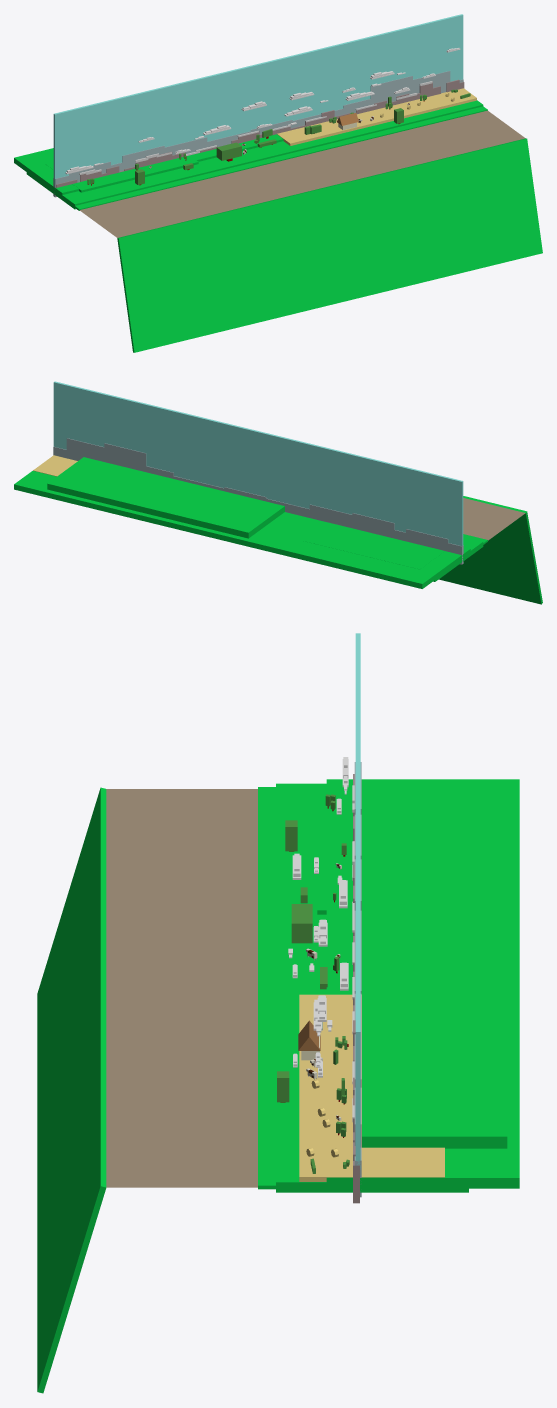
File: countryBackground.fbx
3 renders of one model, top to bottom at view 1: azimuth 30°, elevation 25°; view 2: azimuth 150°, elevation 25°; view 3: azimuth 270°, elevation 25°, orthographic. The views are drawn at different scales.
Parts seen in each view (by area): view 1: polySurface524; view 2: polySurface524; view 3: polySurface524.
Boxes of the visible parts, x1,y1,x2,y2 form: polySurface524: (14,14,542,352); polySurface524: (14,381,542,604); polySurface524: (37,633,519,1393).
Bounding box in the file's own units: 400 × 169 × 204.
